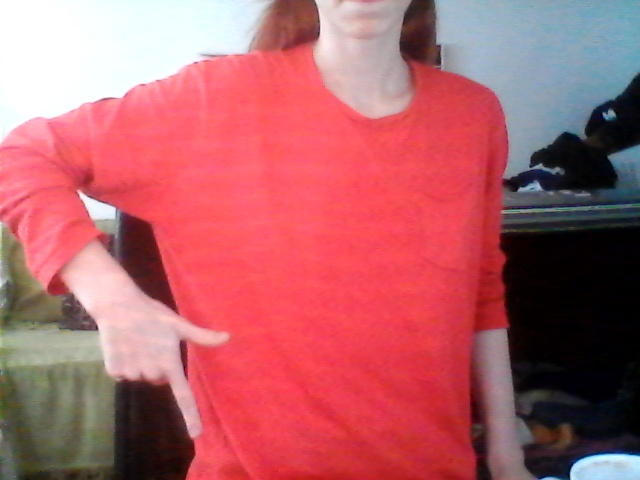policia: (71, 292, 234, 448)
